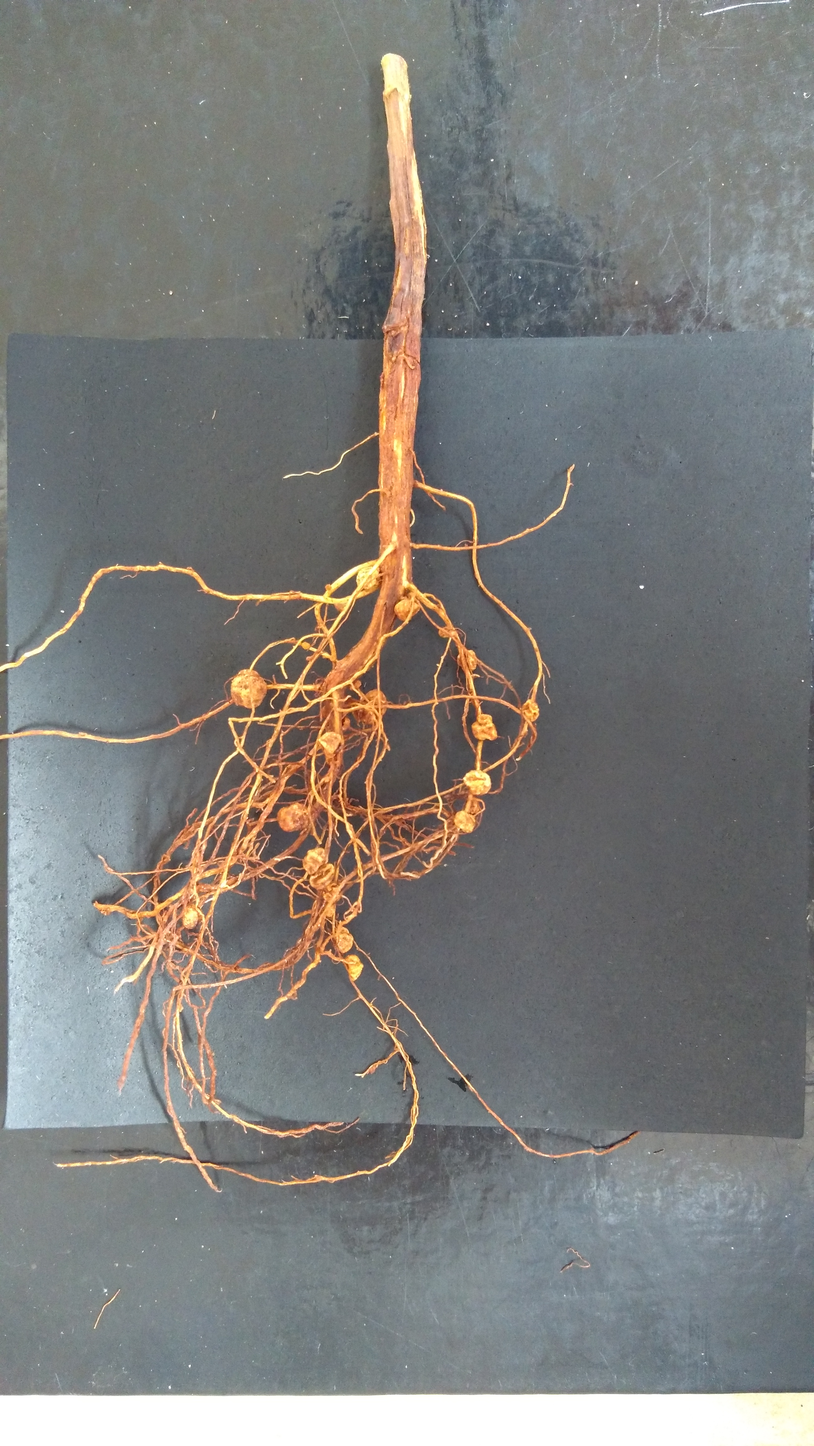nodule: (228, 664, 270, 712), (275, 802, 311, 834), (358, 688, 388, 725), (461, 767, 493, 797), (306, 860, 336, 890), (470, 713, 499, 744), (300, 845, 329, 875), (355, 561, 378, 593), (393, 597, 422, 622), (333, 923, 355, 954), (342, 953, 365, 982), (316, 730, 342, 755), (453, 809, 477, 834), (520, 697, 542, 724), (456, 648, 478, 673), (180, 906, 201, 932), (321, 881, 343, 904), (334, 596, 352, 614), (438, 625, 459, 638), (340, 715, 351, 731), (349, 679, 362, 692), (324, 905, 336, 918), (323, 582, 333, 593), (301, 641, 311, 651)
